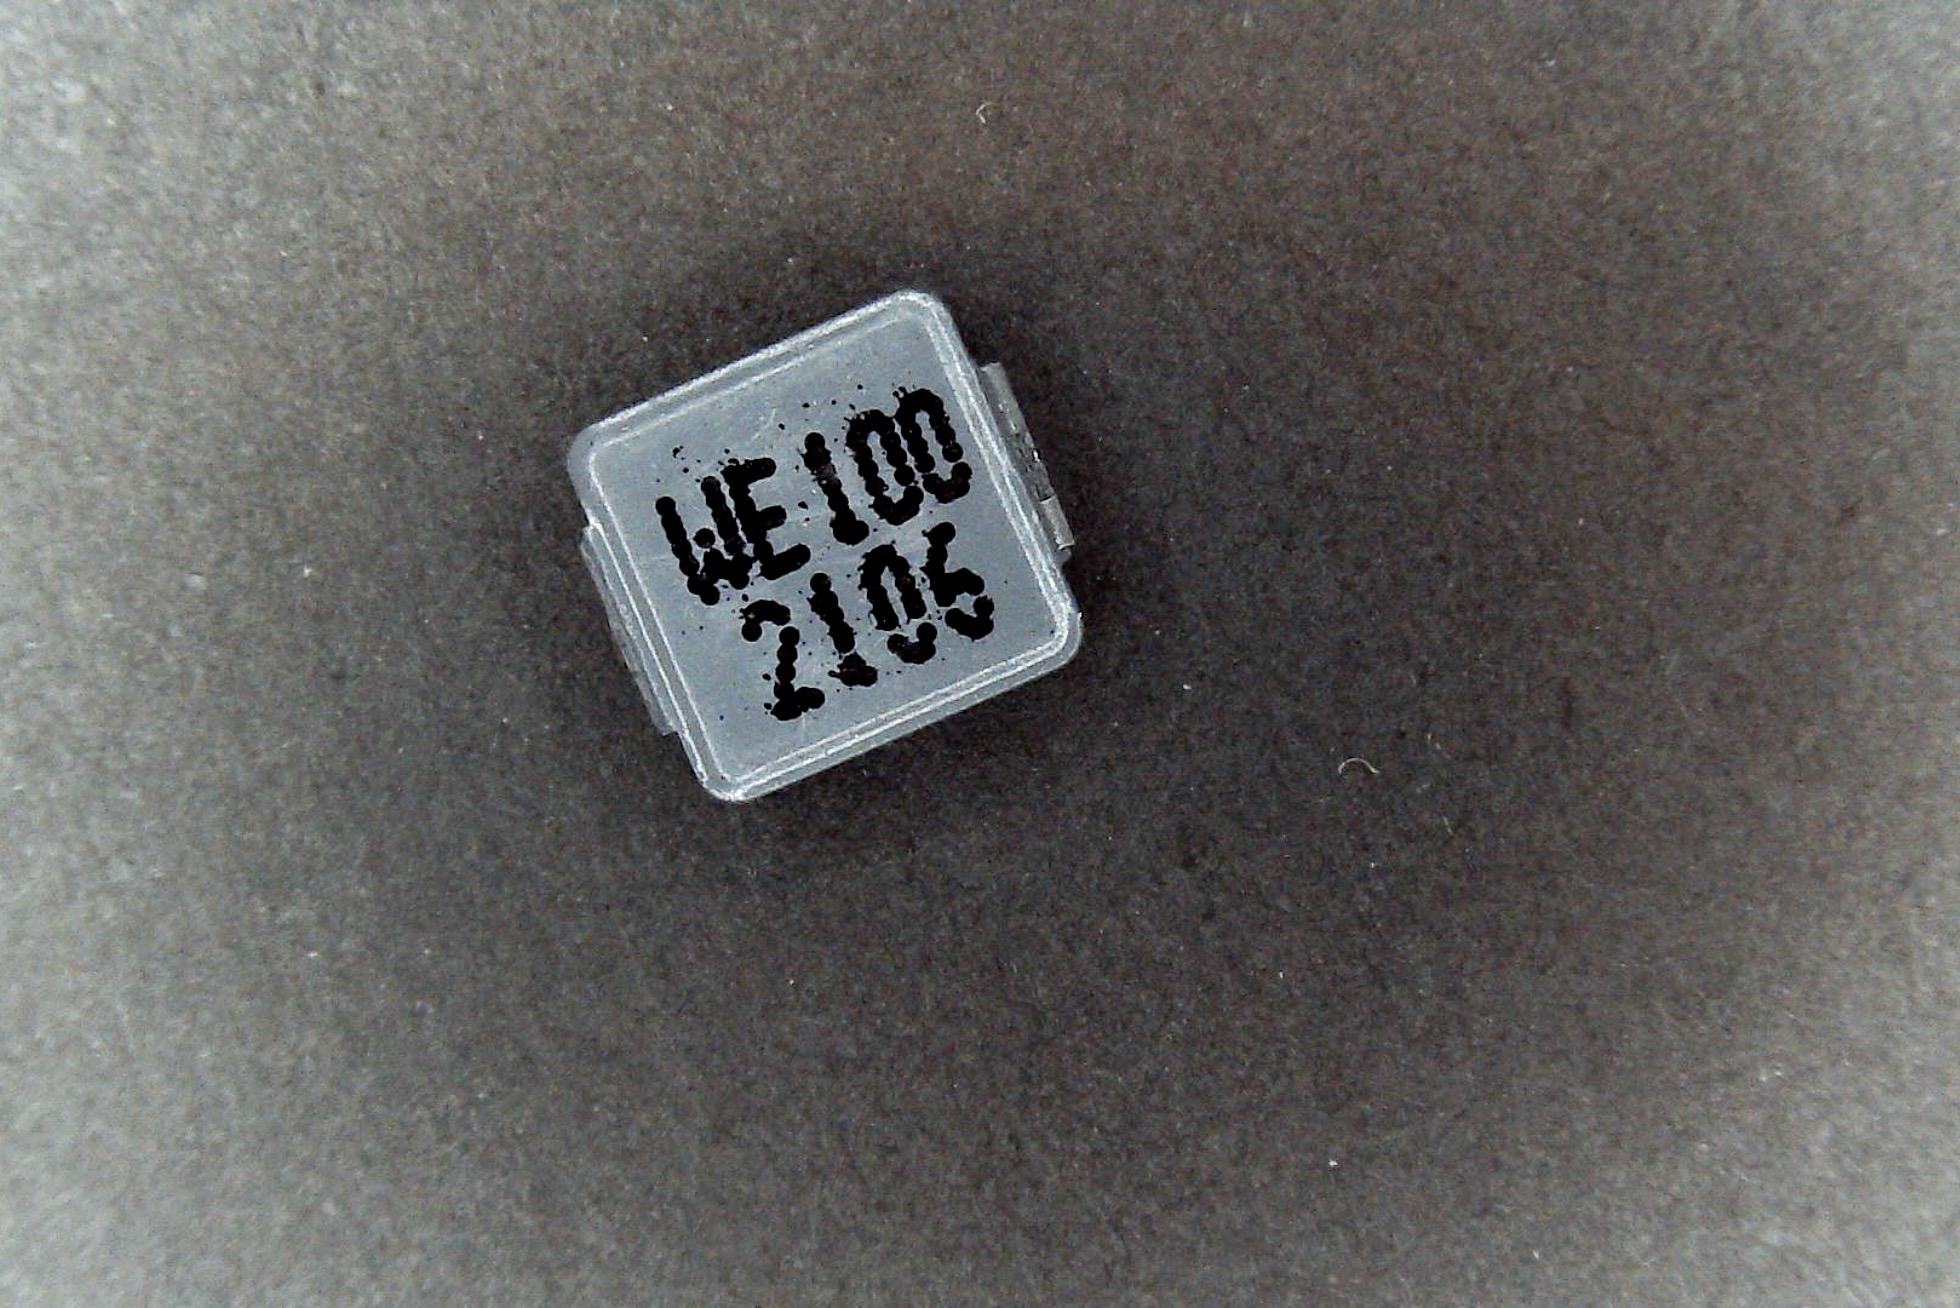bbox: (562, 288, 1087, 804)
